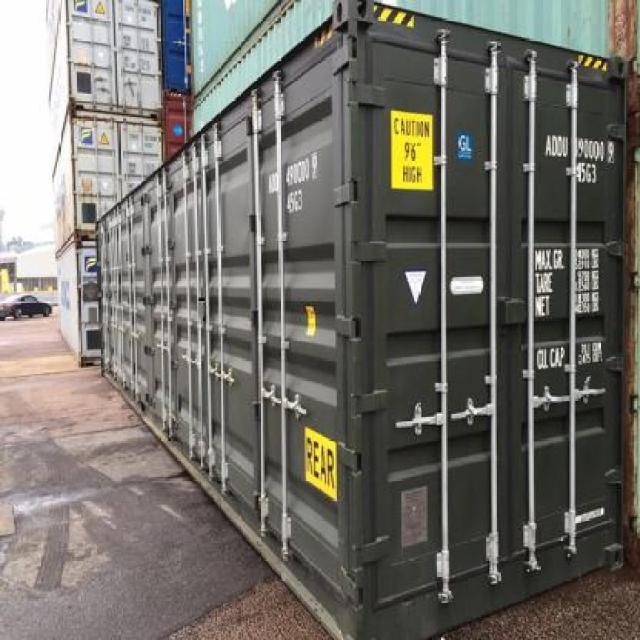ISO: (572, 164, 604, 186)
container_number: (538, 128, 624, 168)
